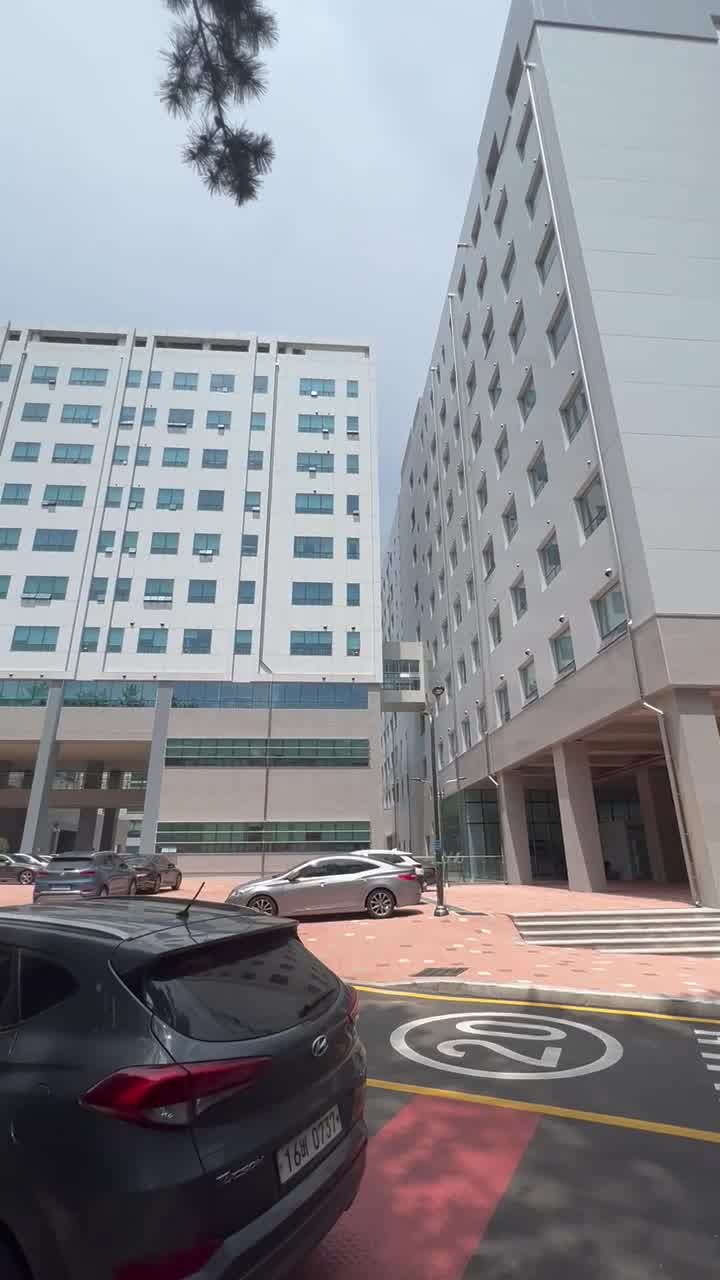low: (20, 324, 400, 862)
